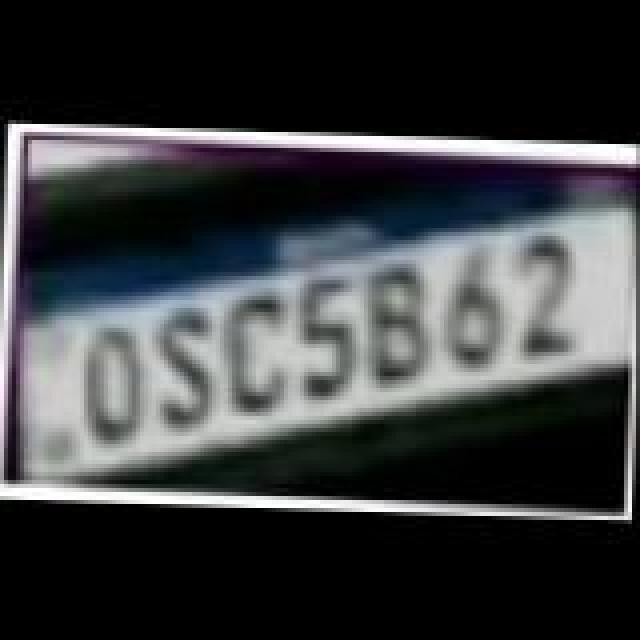2: (502, 230, 582, 362)
5: (286, 276, 366, 404)
6: (434, 244, 514, 376)
B: (360, 258, 444, 386)
C: (216, 290, 296, 418)
O: (72, 322, 152, 446)
S: (150, 304, 226, 432)
